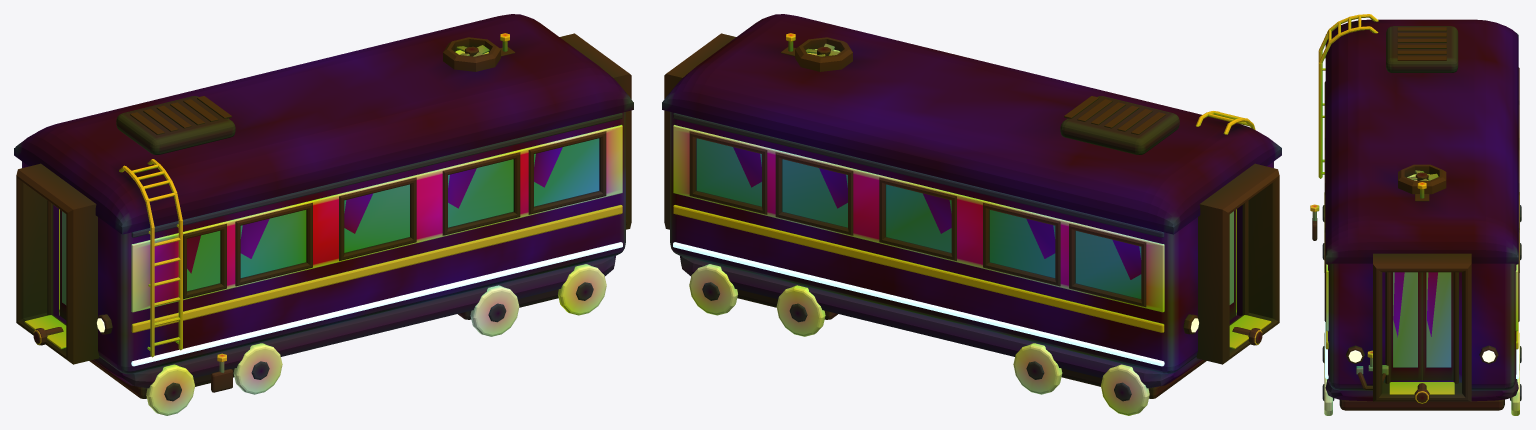
The model's file is FuturisticCoach_Closed_Blockout.fbx.
The picture shows the model from 3 angles, left to right: view 1: azimuth 30°, elevation 25°; view 2: azimuth 150°, elevation 25°; view 3: azimuth 270°, elevation 25°; orthographic projection. The views are drawn at different scales.
Visible parts, largest first — view 1: Roof, Body, Windows, Underframe, Ends, Livery, WindowBand, RoofLadder, EndDoorLeaf_R_Rear; view 2: Roof, Body, Windows, Underframe, Ends, Livery, WindowBand, EndDoorLeaf_L_Rear; view 3: Roof, Body, Ends, Underframe, EndDoorLeaf_L_Front, EndDoorLeaf_R_Front, RoofLadder, Windows, WindowBand, Livery, Coupler_Front.
Boxes of the visible parts, x1=… form: Roof: x1=14, y1=14, x2=633, y2=234; Body: x1=22, y1=112, x2=625, y2=374; Windows: x1=183, y1=131, x2=606, y2=299; Underframe: x1=89, y1=256, x2=615, y2=415; Ends: x1=16, y1=33, x2=631, y2=364; Livery: x1=131, y1=113, x2=622, y2=366; WindowBand: x1=131, y1=125, x2=622, y2=312; RoofLadder: x1=119, y1=159, x2=182, y2=357; EndDoorLeaf_R_Rear: x1=59, y1=209, x2=66, y2=319; Roof: x1=662, y1=14, x2=1281, y2=234; Body: x1=670, y1=112, x2=1273, y2=374; Windows: x1=689, y1=131, x2=1146, y2=307; Underframe: x1=680, y1=256, x2=1206, y2=415; Ends: x1=664, y1=33, x2=1279, y2=364; Livery: x1=673, y1=113, x2=1164, y2=366; WindowBand: x1=673, y1=125, x2=1164, y2=312; EndDoorLeaf_L_Rear: x1=1229, y1=209, x2=1236, y2=319; Roof: x1=1325, y1=19, x2=1518, y2=263; Body: x1=1328, y1=263, x2=1516, y2=390; Ends: x1=1346, y1=253, x2=1498, y2=401; Underframe: x1=1322, y1=192, x2=1521, y2=415; EndDoorLeaf_L_Front: x1=1390, y1=272, x2=1421, y2=380; EndDoorLeaf_R_Front: x1=1422, y1=272, x2=1453, y2=380; RoofLadder: x1=1318, y1=14, x2=1378, y2=178; Windows: x1=1324, y1=67, x2=1519, y2=321; WindowBand: x1=1326, y1=264, x2=1518, y2=331; Livery: x1=1325, y1=263, x2=1519, y2=378; Coupler_Front: x1=1414, y1=383, x2=1429, y2=403.
Bounding box in the file's own units: 8.16 × 3.33 × 2.91.
